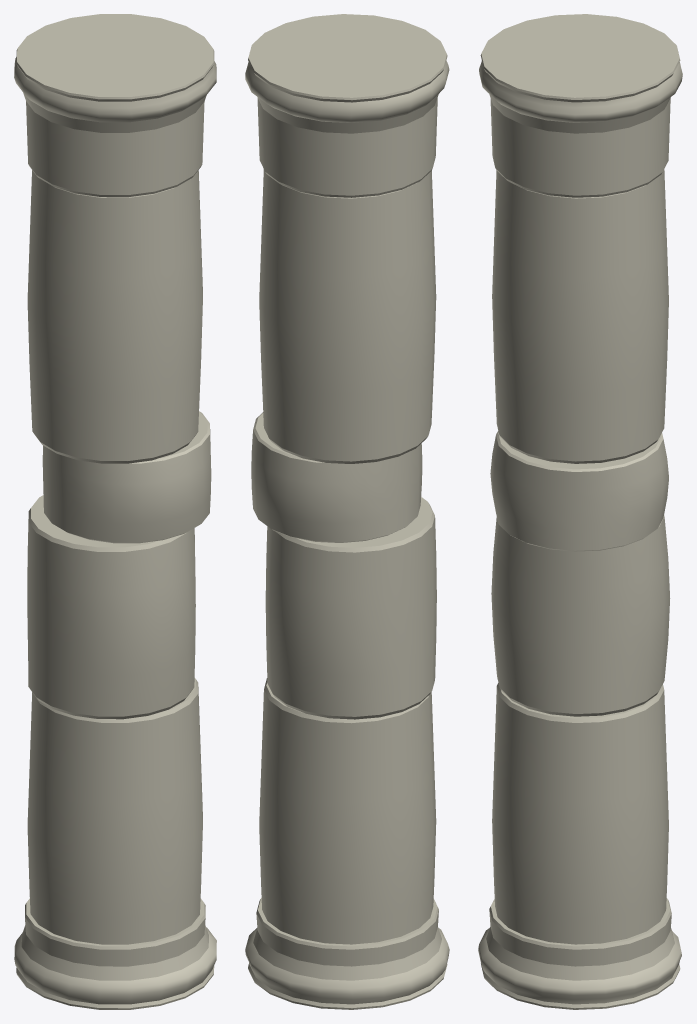
The model's file is Columna_Entera_FBX.fbx.
3 renders of one model, left to right at view 1: azimuth 30°, elevation 25°; view 2: azimuth 150°, elevation 25°; view 3: azimuth 270°, elevation 25°, orthographic.
Visible parts, largest first — view 1: Columna_Entera; view 2: Columna_Entera; view 3: Columna_Entera.
Part boxes in pixels (left/top/right/bottom): Columna_Entera: left=14, top=14, right=216, bottom=1009; Columna_Entera: left=245, top=14, right=449, bottom=1009; Columna_Entera: left=478, top=14, right=682, bottom=1009.
Bounding box in the file's own units: 0.9941 × 4.89 × 0.9956.
